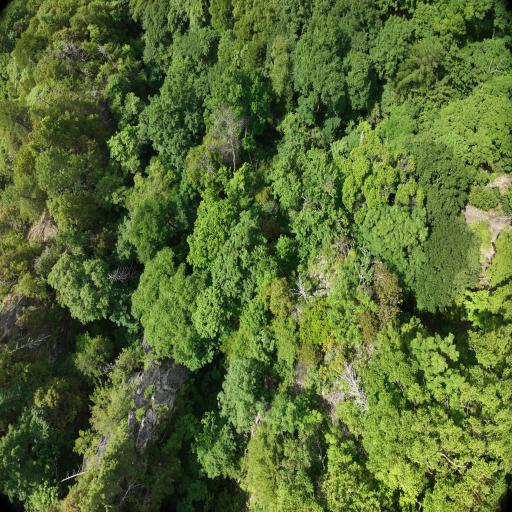dead-tree: (205, 90, 246, 178), (60, 38, 118, 78), (338, 353, 372, 410), (6, 328, 50, 356), (106, 265, 142, 285), (292, 269, 312, 302), (33, 88, 52, 107)
